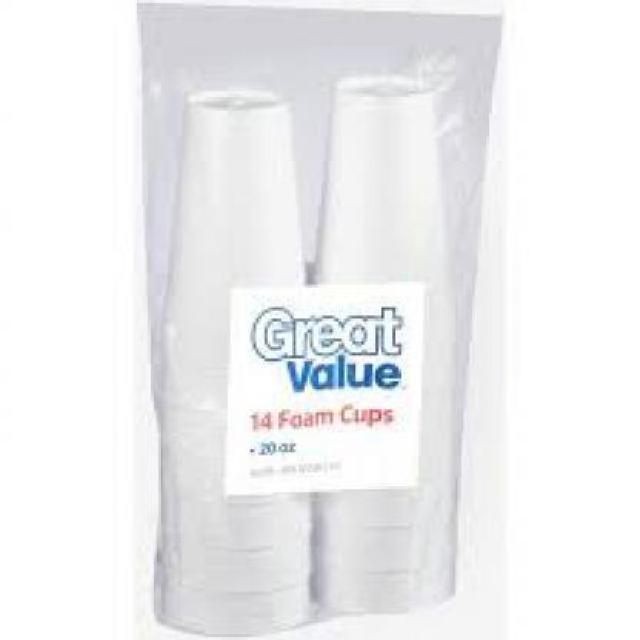PAPER: (156, 88, 310, 635), (313, 74, 452, 609), (225, 285, 422, 498)
PLASTIC: (138, 4, 507, 635)
